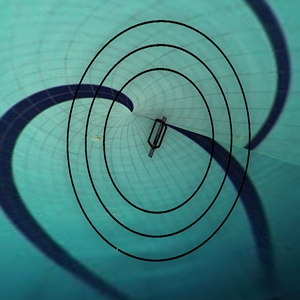circle: (57, 8, 258, 264)
submarine: (136, 107, 182, 162)
